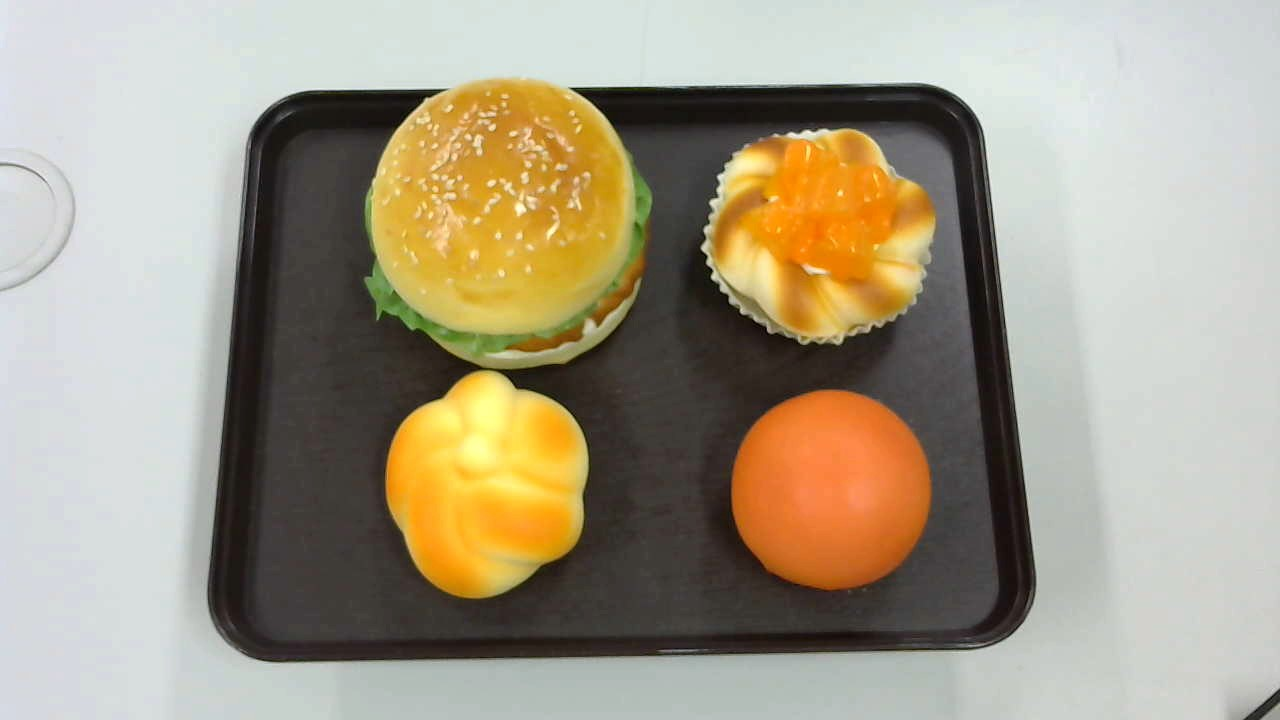bun: (729, 389, 933, 589)
hamburger: (363, 77, 652, 369)
mango tart: (702, 127, 937, 348)
twist bread: (384, 367, 592, 600)
